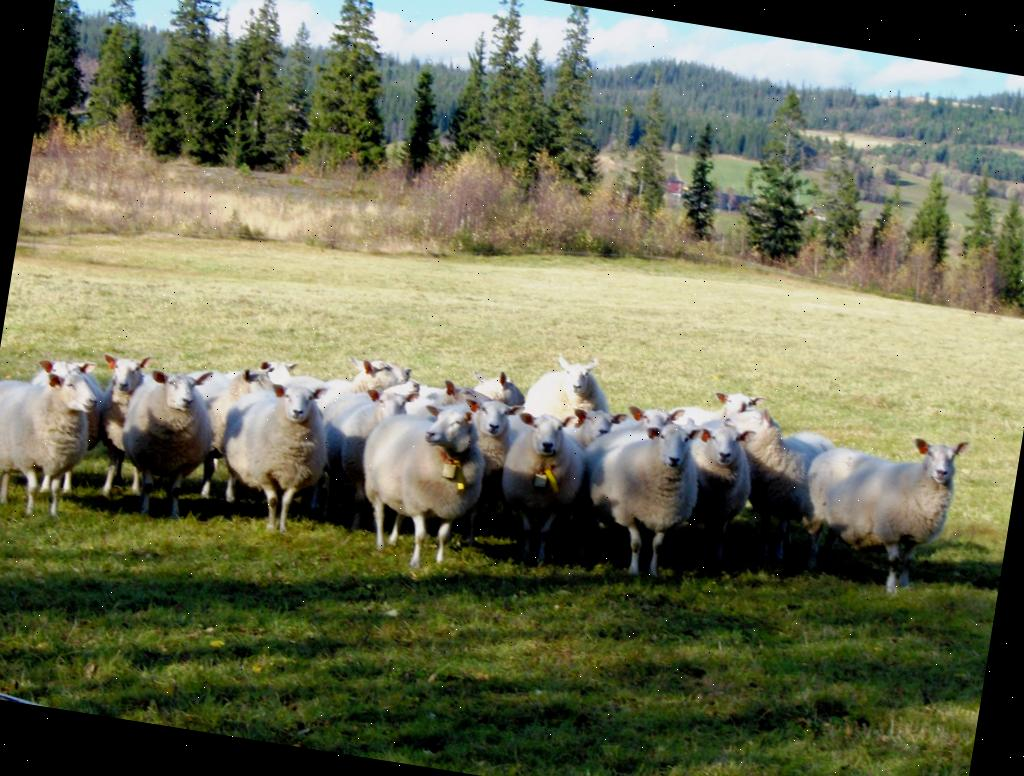Sheep: (792, 417, 972, 598), (702, 398, 836, 567), (352, 398, 484, 560), (213, 372, 341, 525), (578, 408, 710, 555), (0, 354, 105, 524), (300, 375, 410, 534), (484, 404, 596, 558), (168, 354, 280, 506), (122, 361, 224, 511), (70, 351, 160, 499), (523, 347, 617, 431), (418, 387, 499, 437), (216, 364, 274, 412), (311, 375, 367, 417), (186, 360, 242, 401)
